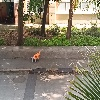fire: (33, 51, 40, 59)
